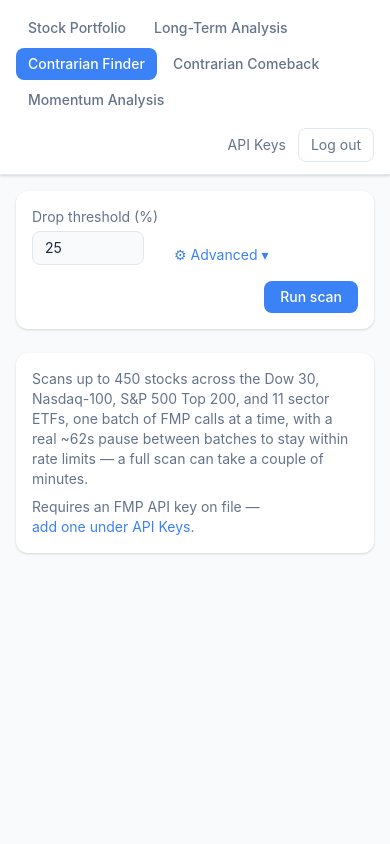
it: TabShell › a Contrarian Finder candidate row's LT button launches Long-Term Analysis with that ticker
Click the button "Run scan": (311, 297) 264,281 -> 358,313
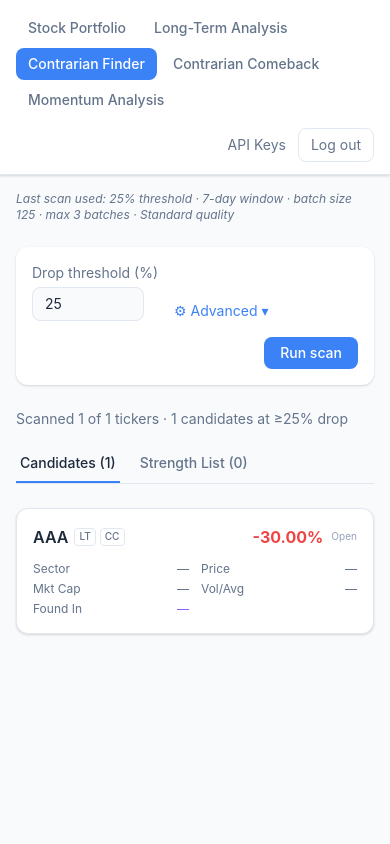
Click the button titled "Long-Term Analysis": (85, 537) 74,528 -> 96,546
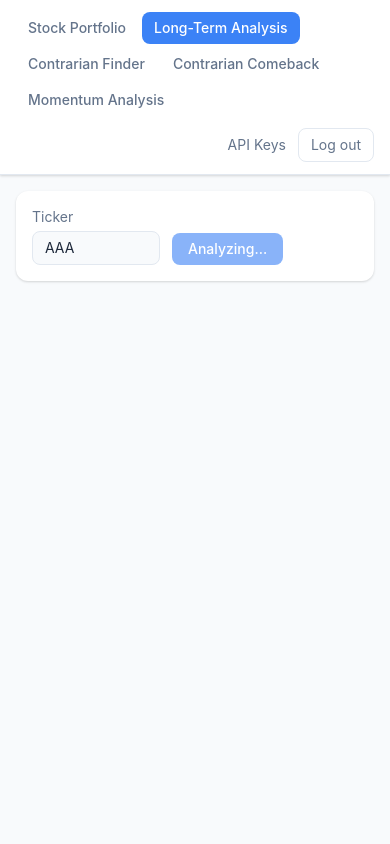
Now the field labelled "Ticker" holds "AAA", box 32,231 -> 160,265
